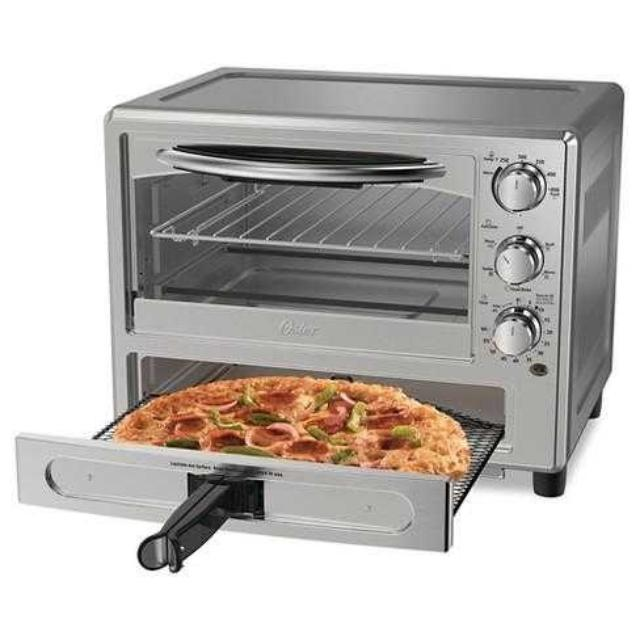Oven: (87, 71, 623, 491)
